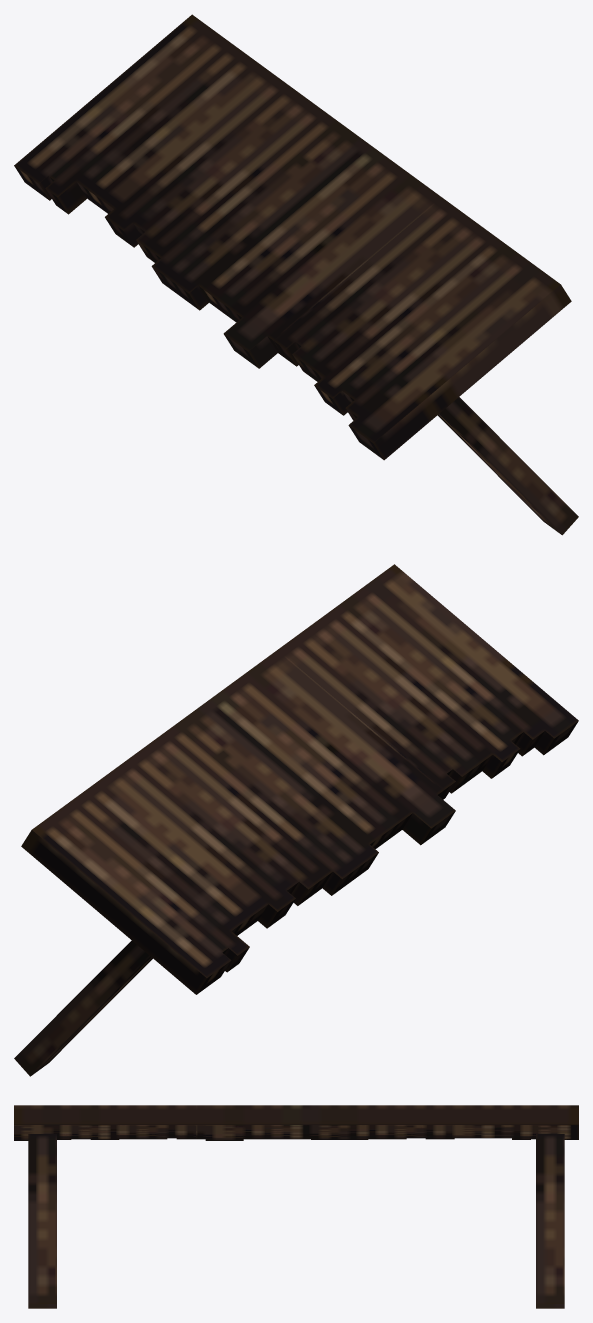
Rendered from EnvBdgMD_Wilderness_C_Outdoor_Noki_A.FBX.
The picture shows the model from 3 angles, top to bottom: view 1: azimuth 30°, elevation 25°; view 2: azimuth 150°, elevation 25°; view 3: azimuth 270°, elevation 25°; orthographic projection. The views are drawn at different scales.
Parts seen in each view (by area): view 1: EnvBdgMD_Wilderness_C_Outdoor_Noki_A; view 2: EnvBdgMD_Wilderness_C_Outdoor_Noki_A; view 3: EnvBdgMD_Wilderness_C_Outdoor_Noki_A.
Boxes of the visible parts, box(x1,y1,x2,y2) form: EnvBdgMD_Wilderness_C_Outdoor_Noki_A: box(14, 14, 578, 535); EnvBdgMD_Wilderness_C_Outdoor_Noki_A: box(14, 564, 578, 1076); EnvBdgMD_Wilderness_C_Outdoor_Noki_A: box(14, 1105, 578, 1308).
Size of the model in its own units: 99.26 by 115 by 295.
1 material, 1 textured.
